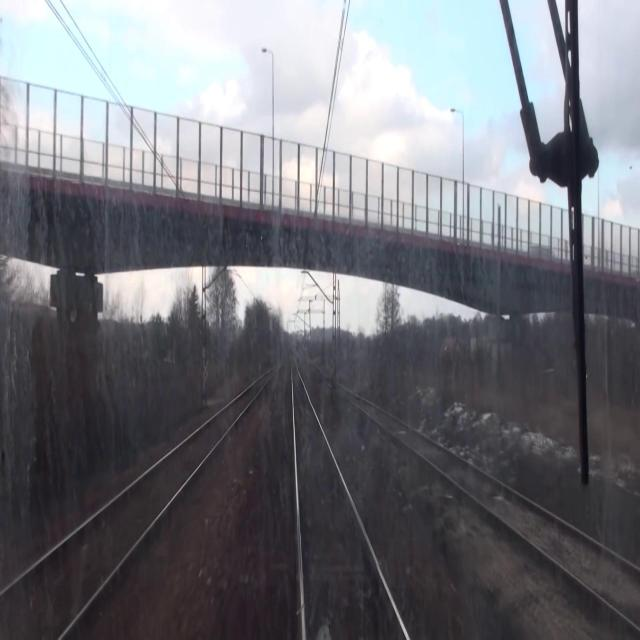rail-track: (336, 386, 640, 625), (0, 377, 266, 639), (293, 363, 406, 639)
